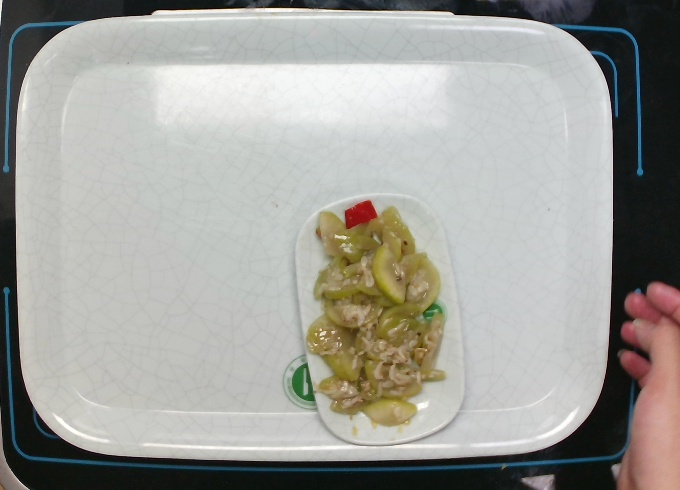WCQzf-Tuo_Yuan_Pan: (291, 179, 460, 448)
